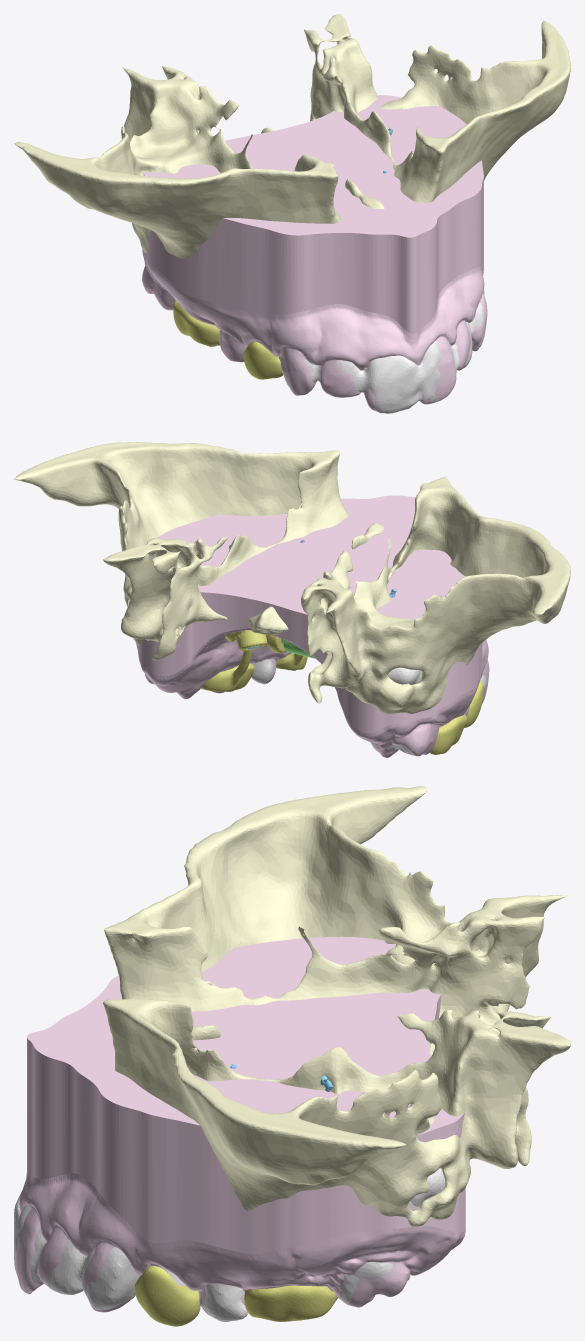
The picture shows the model from 3 angles, top to bottom: view 1: azimuth 30°, elevation 25°; view 2: azimuth 150°, elevation 25°; view 3: azimuth 270°, elevation 25°; orthographic projection. The views are drawn at different scales.
Visible parts, largest first — view 1: Upper, Maxilla & Upper Skull, Upper Teeth, Layer; view 2: Maxilla & Upper Skull, Upper, Layer, Upper Teeth; view 3: Maxilla & Upper Skull, Upper, Upper Teeth, Layer.
Boxes of the visible parts, x1,y1,x2,y2 form: Upper: (142,95,487,411); Maxilla & Upper Skull: (14,14,570,258); Upper Teeth: (220,293,487,413); Layer: (173,289,484,379); Maxilla & Upper Skull: (14,442,570,714); Upper: (135,495,489,757); Layer: (201,630,483,754); Upper Teeth: (129,601,486,753); Maxilla & Upper Skull: (103,786,570,1226); Upper: (15,936,465,1321); Upper Teeth: (14,1168,445,1321); Layer: (134,1265,337,1326).
Bounding box in the file's own units: 104 × 42.67 × 68.38.
